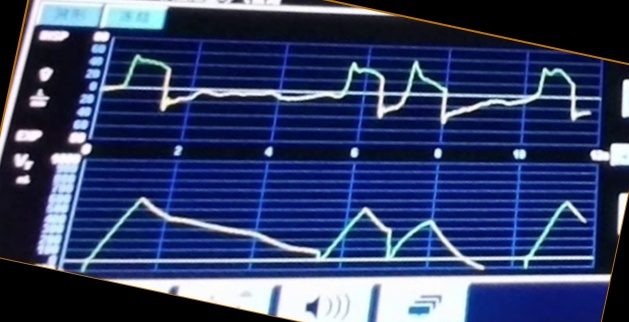Double_Triggering Flow: (111, 51, 578, 130)
Double_Triggering Volume: (81, 192, 587, 271)
